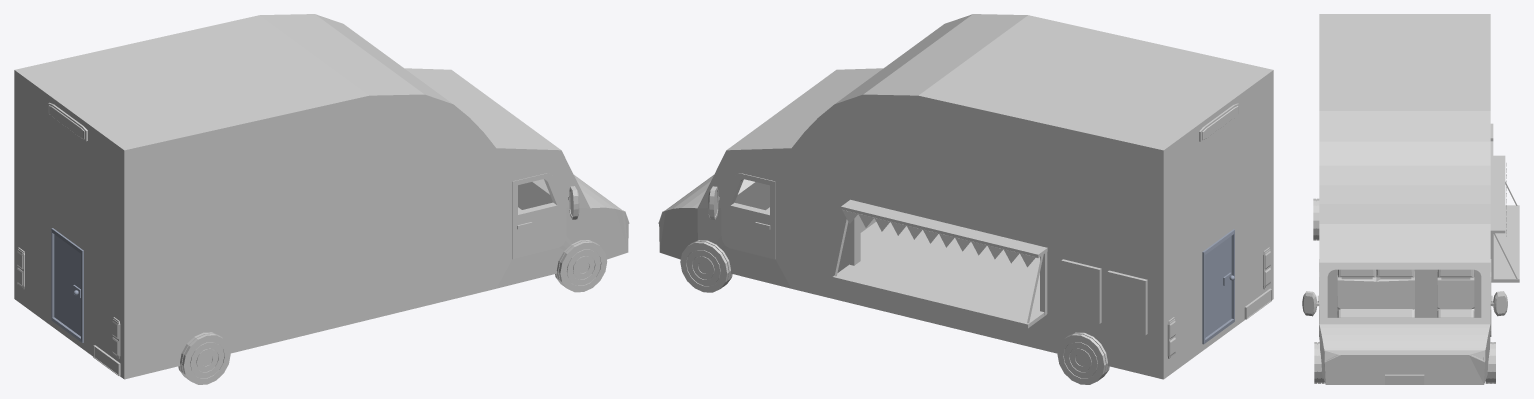
The model's file is F_Foodtruck_001.fbx.
3 renders of one model, left to right at view 1: azimuth 30°, elevation 25°; view 2: azimuth 150°, elevation 25°; view 3: azimuth 270°, elevation 25°, orthographic. The views are drawn at different scales.
Visible parts, largest first — view 1: F_Foodtruck_001, F_CarDoor_002, f_door; view 2: F_Foodtruck_001, F_carDoor_001, f_door; view 3: F_Foodtruck_001.
Boxes of the visible parts, x1,y1,x2,y2 form: F_Foodtruck_001: [14, 14, 629, 384]; F_CarDoor_002: [512, 173, 566, 258]; f_door: [51, 228, 83, 342]; F_Foodtruck_001: [658, 14, 1273, 384]; F_carDoor_001: [721, 173, 775, 259]; f_door: [1202, 229, 1234, 344]; F_Foodtruck_001: [1302, 14, 1519, 384].
Size of the model in its own units: 1257 by 584 by 590.
